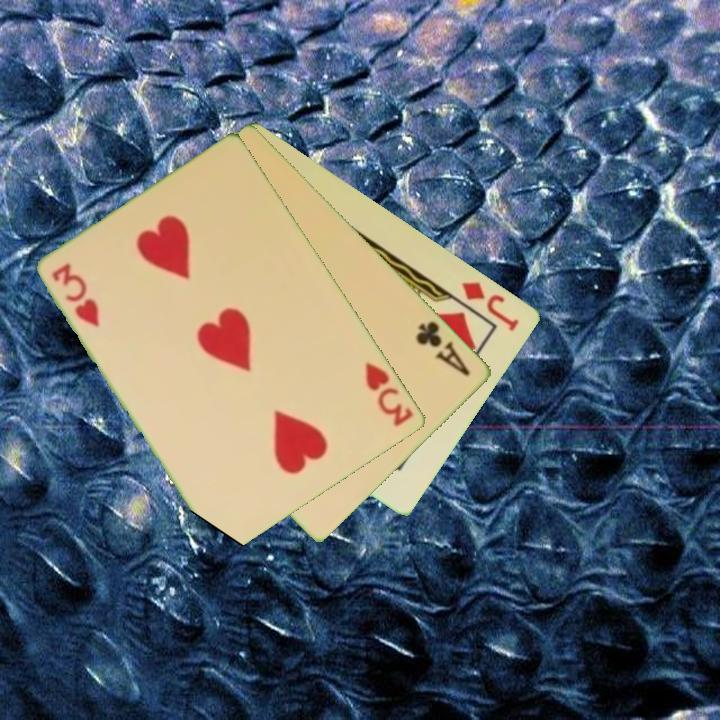3h: (48, 259, 104, 331), (362, 359, 417, 430)
Ac: (412, 317, 474, 380)
Jd: (459, 278, 523, 334)
